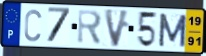5: (136, 10, 157, 49)
7: (46, 6, 72, 46)
C: (23, 8, 43, 43)
M: (158, 13, 188, 49)
R: (77, 8, 104, 46)
V: (103, 8, 132, 49)
